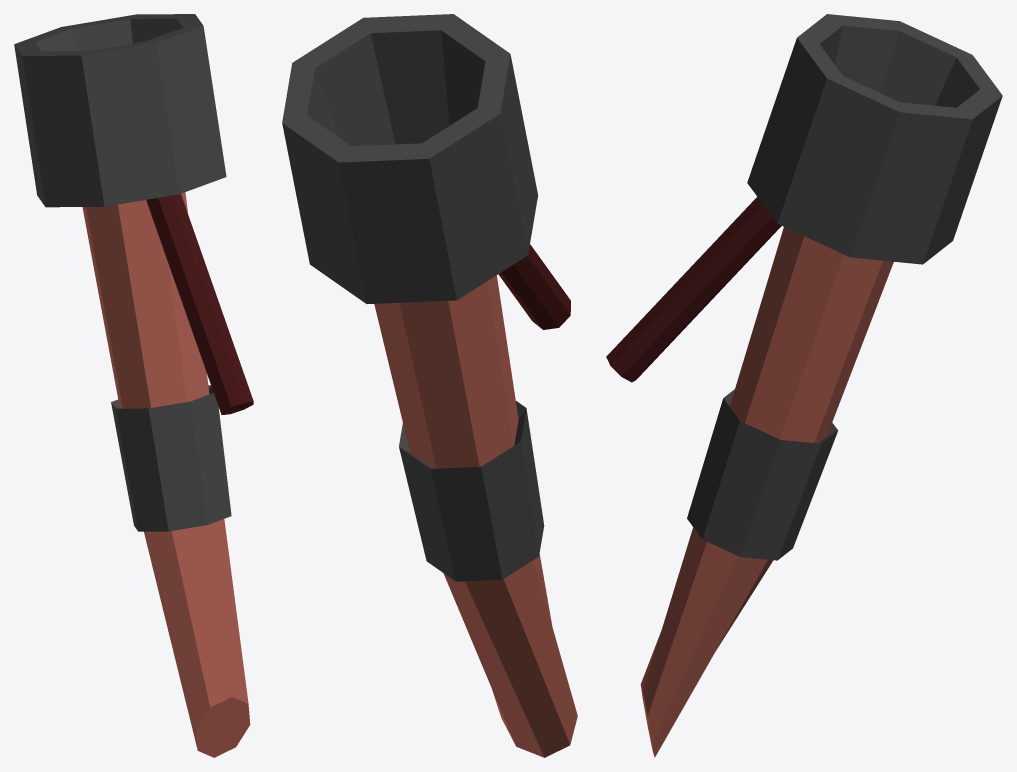
The model's file is Torch.fbx.
The picture shows the model from 3 angles, left to right: view 1: azimuth 30°, elevation 25°; view 2: azimuth 150°, elevation 25°; view 3: azimuth 270°, elevation 25°; orthographic projection. The views are drawn at different scales.
Visible parts, largest first — view 1: Cylinder.002, Cylinder.001; view 2: Cylinder.002, Cylinder.001; view 3: Cylinder.002, Cylinder.001.
Part boxes in pixels (box(x1,y1,x2,y2)): Cylinder.002: box(14, 14, 250, 757); Cylinder.001: box(146, 194, 253, 414); Cylinder.002: box(282, 14, 577, 757); Cylinder.001: box(498, 244, 570, 329); Cylinder.002: box(640, 14, 1002, 757); Cylinder.001: box(606, 197, 781, 382).
Size of the model in its own units: 79.05 by 290 by 145.
